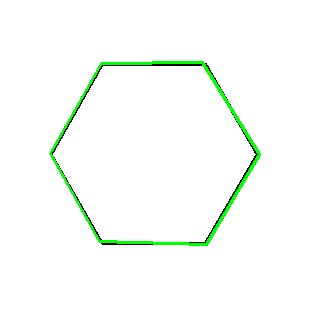line_segment: (50, 62, 260, 246)
